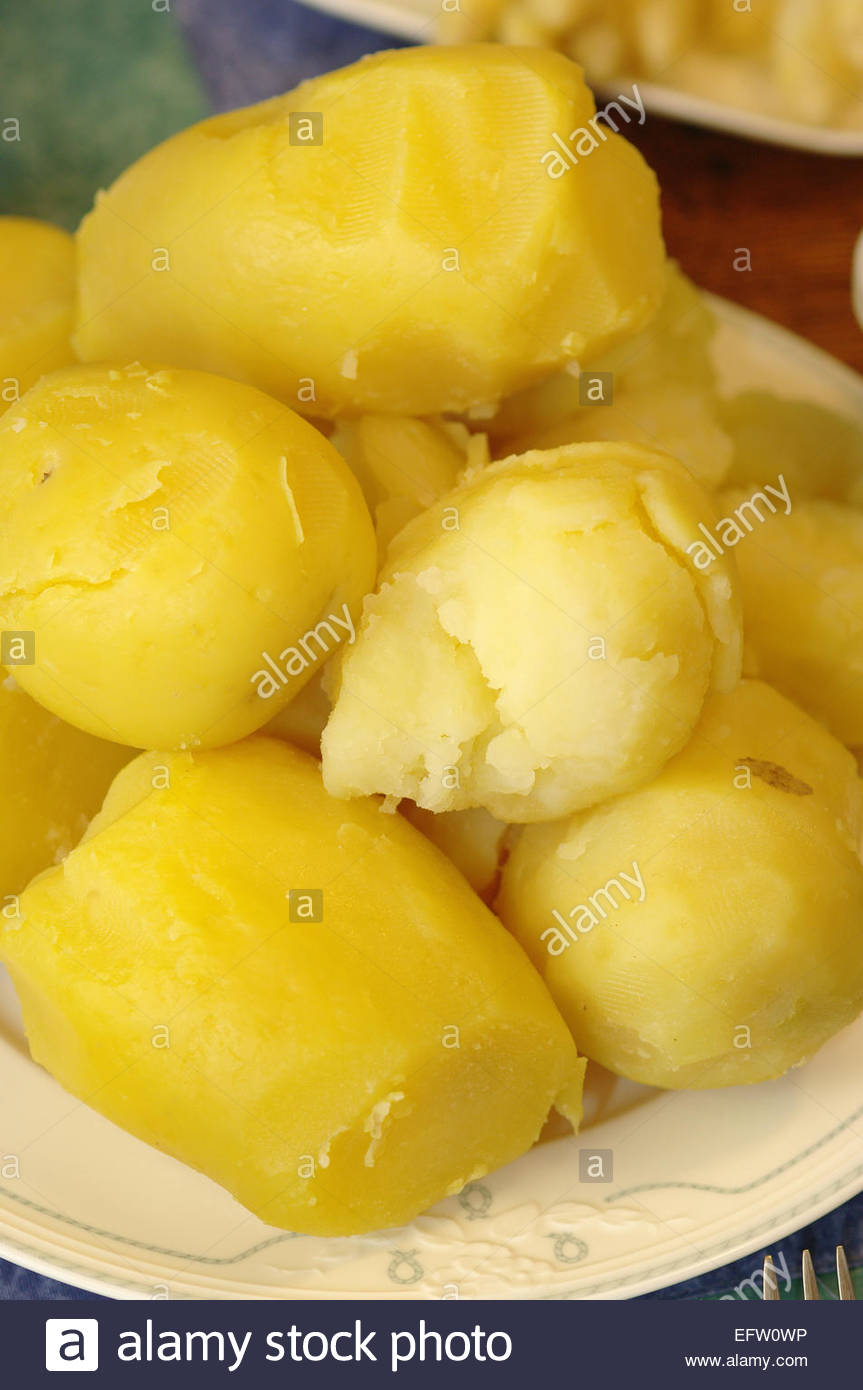boiled potatoes: (19, 97, 863, 1165)
